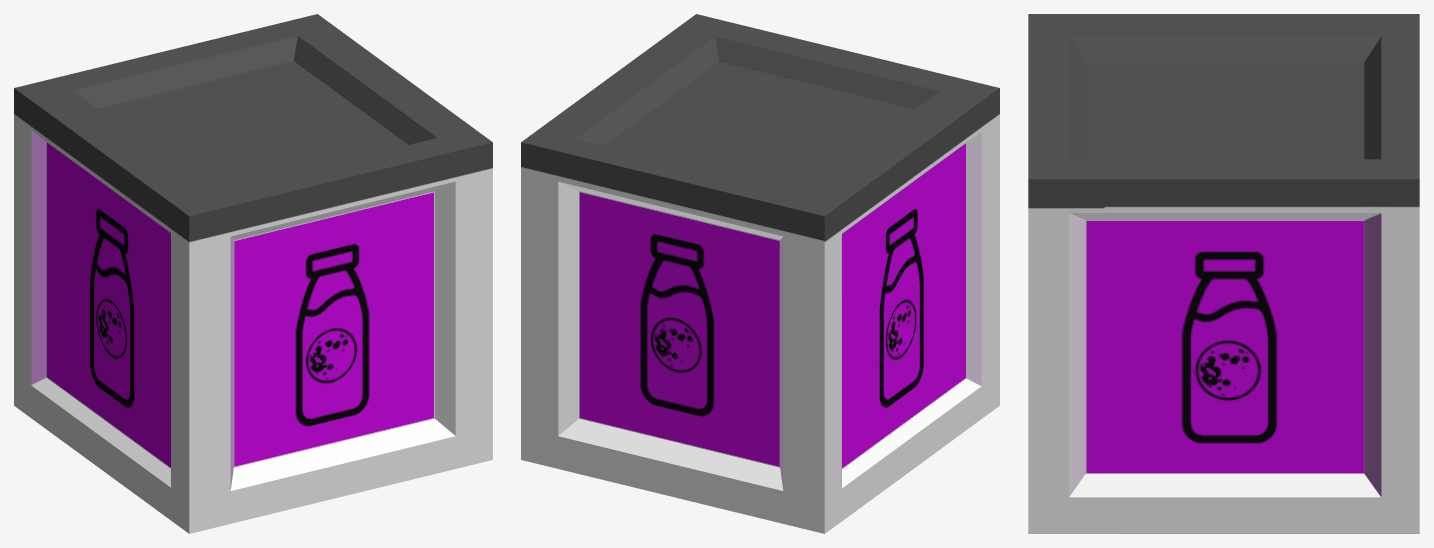
The model's file is Crate_Milk.obj.
3 renders of one model, left to right at view 1: azimuth 30°, elevation 25°; view 2: azimuth 150°, elevation 25°; view 3: azimuth 270°, elevation 25°, orthographic. The views are drawn at different scales.
Parts seen in each view (by area): view 1: Crate:pCube2 Crate:polySurface2 Base_Crate; view 2: Crate:pCube2 Crate:polySurface2 Base_Crate; view 3: Crate:pCube2 Crate:polySurface2 Base_Crate.
Boxes of the visible parts, x1=… form: Crate:pCube2 Crate:polySurface2 Base_Crate: x1=14, y1=14, x2=492, y2=533; Crate:pCube2 Crate:polySurface2 Base_Crate: x1=521, y1=14, x2=999, y2=533; Crate:pCube2 Crate:polySurface2 Base_Crate: x1=1028, y1=14, x2=1419, y2=533.
Bounding box in the file's own units: 1 × 1 × 1.
